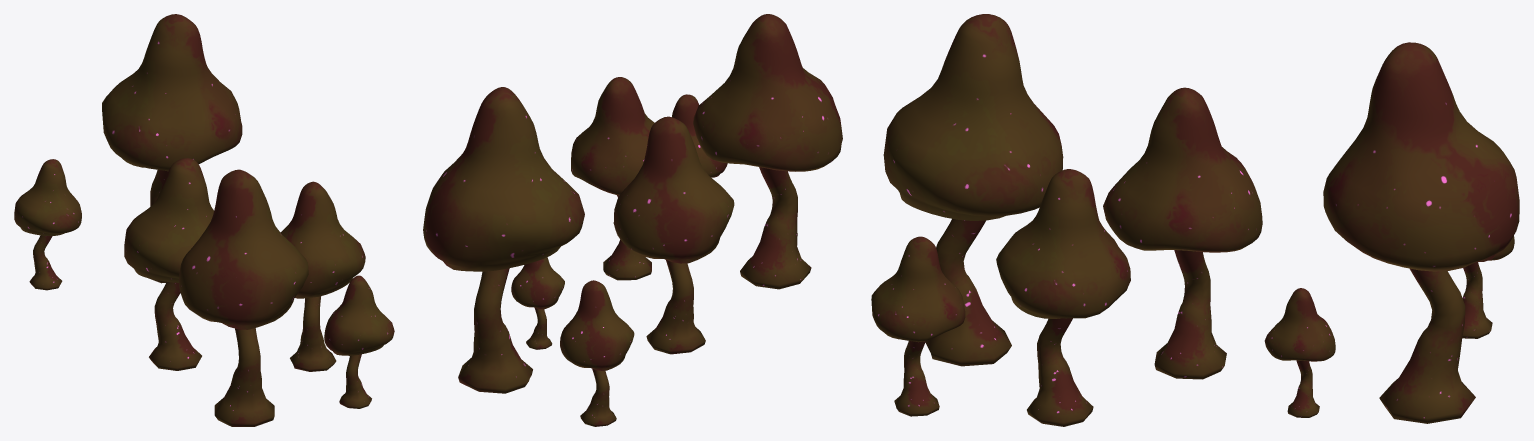
Rendered from GlowcapDead.fbx.
3 views of the same model, side by side, from view 1: azimuth 30°, elevation 25°; view 2: azimuth 150°, elevation 25°; view 3: azimuth 270°, elevation 25° (orthographic). The views are drawn at different scales.
Parts seen in each view (by area): view 1: Glowcap; view 2: Glowcap; view 3: Glowcap.
Part boxes in pixels (<box>): Glowcap: <box>14,14,394,426</box>; Glowcap: <box>423,14,842,426</box>; Glowcap: <box>871,14,1519,426</box>.
Bounding box in the file's own units: 254 × 322 × 501.
1 material, 1 textured.
